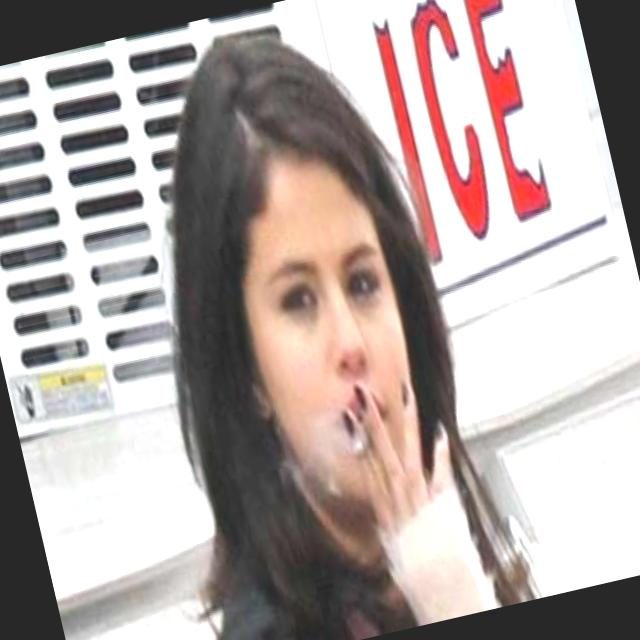cigarette: (324, 382, 396, 474)
